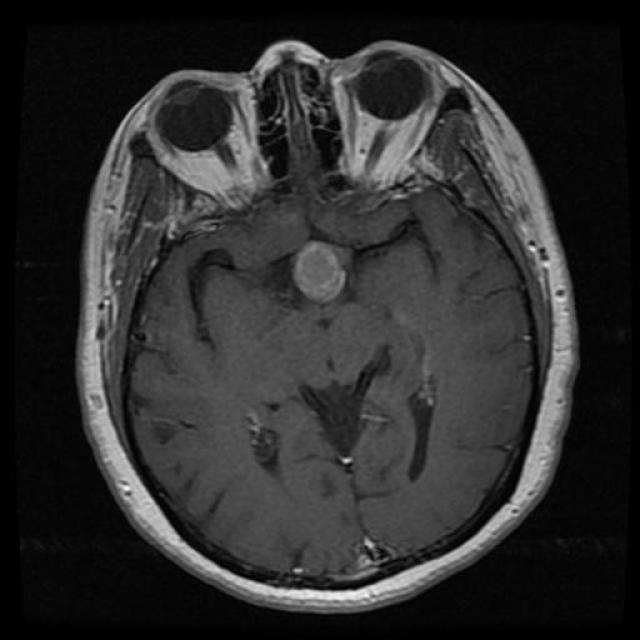pituitary: (260, 232, 352, 310)
